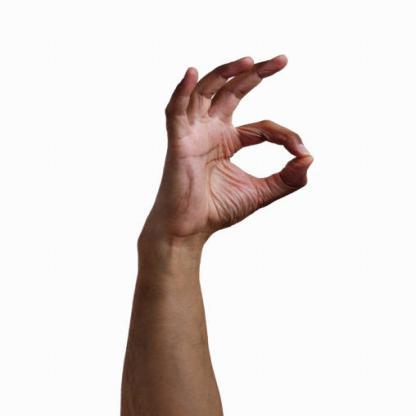ok: (158, 49, 318, 234)
